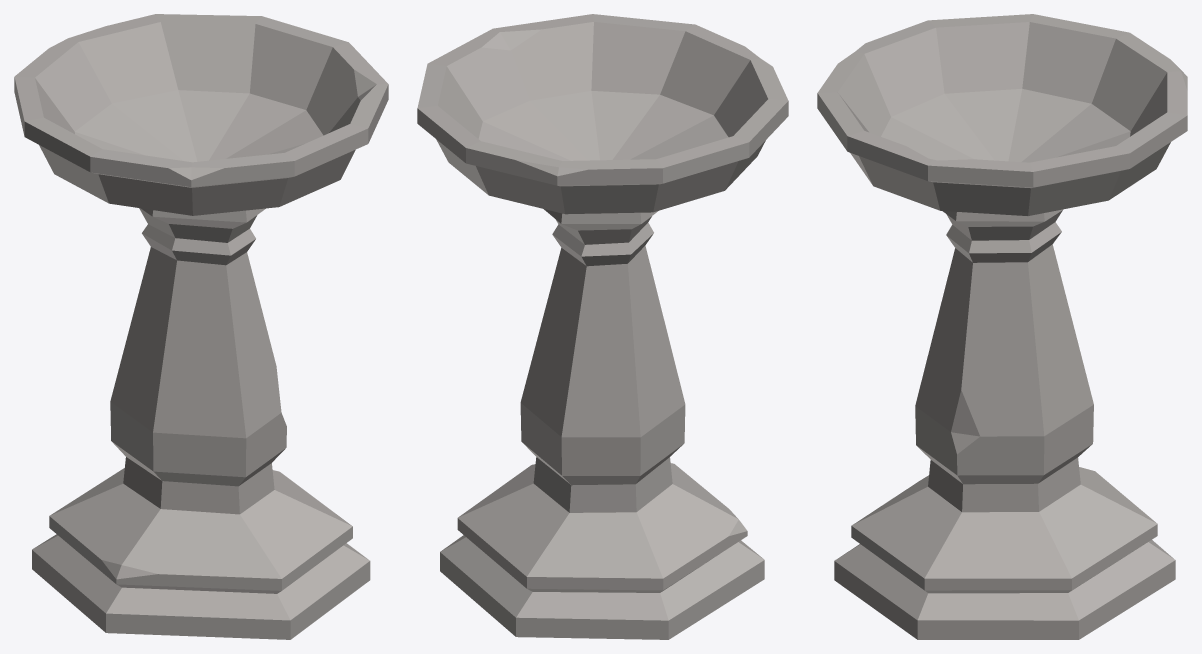
The model's file is SM_Prop_BirdBath_01.fbx.
3 renders of one model, left to right at view 1: azimuth 30°, elevation 25°; view 2: azimuth 150°, elevation 25°; view 3: azimuth 270°, elevation 25°, orthographic.
Visible parts, largest first — view 1: SM_Prop_BirdBath_01; view 2: SM_Prop_BirdBath_01; view 3: SM_Prop_BirdBath_01.
Part boxes in pixels (box(x1,y1,x2,y2)): SM_Prop_BirdBath_01: box(14, 14, 388, 639); SM_Prop_BirdBath_01: box(417, 14, 788, 639); SM_Prop_BirdBath_01: box(817, 14, 1187, 639).
Size of the model in its own units: 55.25 by 79.33 by 54.69.
